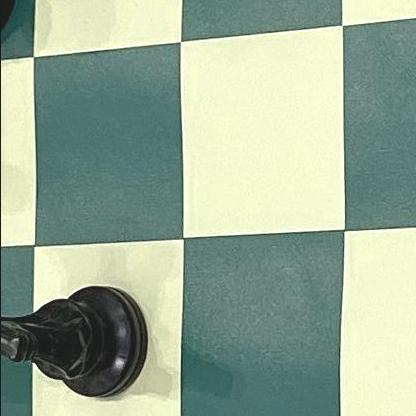black-knight: (0, 264, 151, 416)
